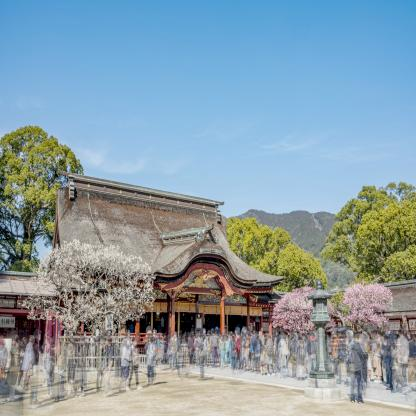Ume: (20, 236, 154, 337), (268, 284, 339, 342), (332, 282, 396, 333)
